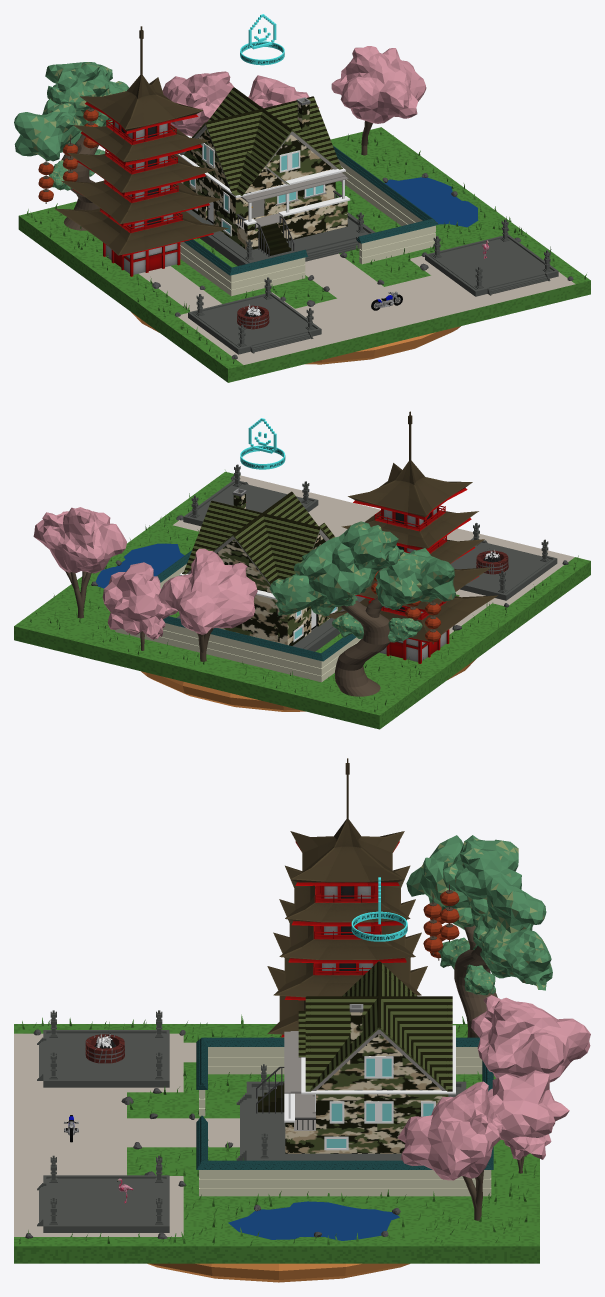
The picture shows the model from 3 angles, top to bottom: view 1: azimuth 30°, elevation 25°; view 2: azimuth 150°, elevation 25°; view 3: azimuth 270°, elevation 25°; orthographic projection. The views are drawn at different scales.
Parts seen in each view (by area): view 1: Cube.005, Cube.001, UNDERGROUND_PIZZA, TYPE_PREMIUM, OBJRANDOM_CAMPFIRE; view 2: Cube.005, Cube.001, UNDERGROUND_PIZZA, TYPE_PREMIUM, OBJRANDOM_CAMPFIRE; view 3: Cube.005, Cube.001, UNDERGROUND_PIZZA, OBJRANDOM_CAMPFIRE, TYPE_PREMIUM.
Part boxes in pixels (<box>): Cube.005: <box>14,26,590,382</box>; Cube.001: <box>177,87,350,256</box>; UNDERGROUND_PIZZA: <box>131,312,460,364</box>; TYPE_PREMIUM: <box>240,14,284,65</box>; OBJRANDOM_CAMPFIRE: <box>237,304,269,329</box>; Cube.005: <box>14,411,590,729</box>; Cube.001: <box>179,488,342,645</box>; UNDERGROUND_PIZZA: <box>141,659,475,711</box>; TYPE_PREMIUM: <box>240,418,285,469</box>; OBJRANDOM_CAMPFIRE: <box>476,550,508,574</box>; Cube.005: <box>14,758,590,1263</box>; Cube.001: <box>256,961,455,1153</box>; UNDERGROUND_PIZZA: <box>147,1263,409,1282</box>; OBJRANDOM_CAMPFIRE: <box>85,1032,124,1063</box>; TYPE_PREMIUM: <box>351,877,407,941</box>.
Size of the model in its own units: 4528 by 2902 by 4389.
45 materials, 8 textured.
